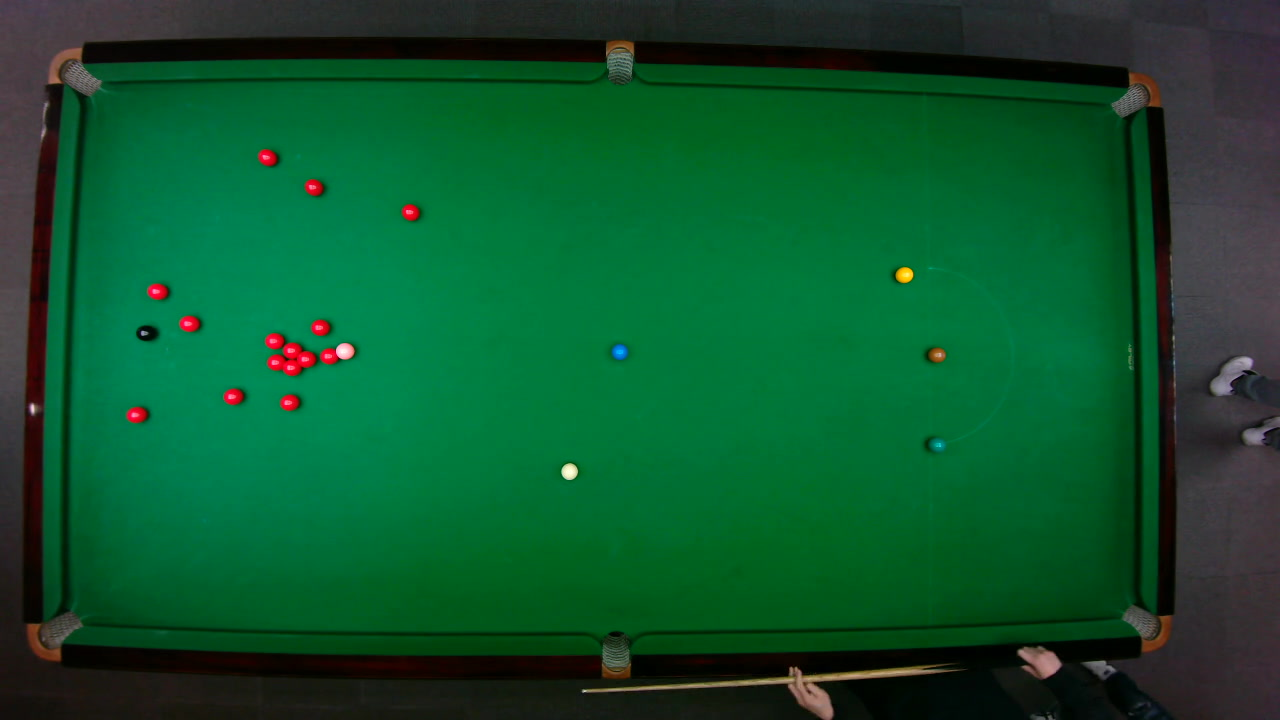bag: (25, 609, 83, 661), (46, 46, 102, 96), (1119, 603, 1171, 651), (1108, 71, 1161, 118), (601, 629, 629, 680), (605, 38, 633, 85)
black: (134, 324, 156, 341)
blue: (610, 342, 628, 360)
brown: (926, 346, 946, 362)
cue: (579, 654, 1017, 694)
green: (926, 435, 946, 452)
pink: (333, 341, 355, 360)
red: (294, 348, 316, 368), (278, 392, 300, 411), (265, 352, 287, 371), (256, 147, 277, 166), (303, 177, 324, 196), (146, 282, 168, 300), (263, 331, 285, 349), (178, 314, 200, 332), (125, 405, 147, 423), (280, 341, 303, 358), (400, 202, 420, 221), (222, 387, 243, 405), (309, 318, 330, 335), (319, 346, 338, 364), (282, 361, 302, 376)
white: (559, 461, 578, 480)
yellow: (893, 265, 914, 283)
zone: (926, 265, 1013, 444)
